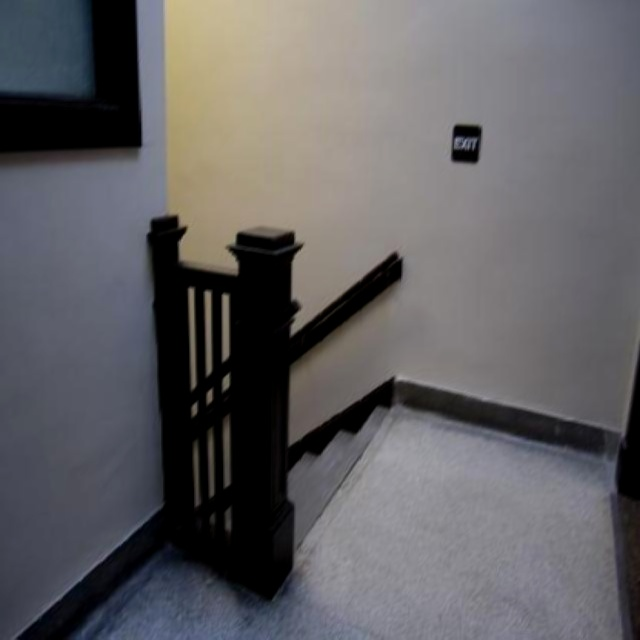stair: (210, 401, 393, 555)
